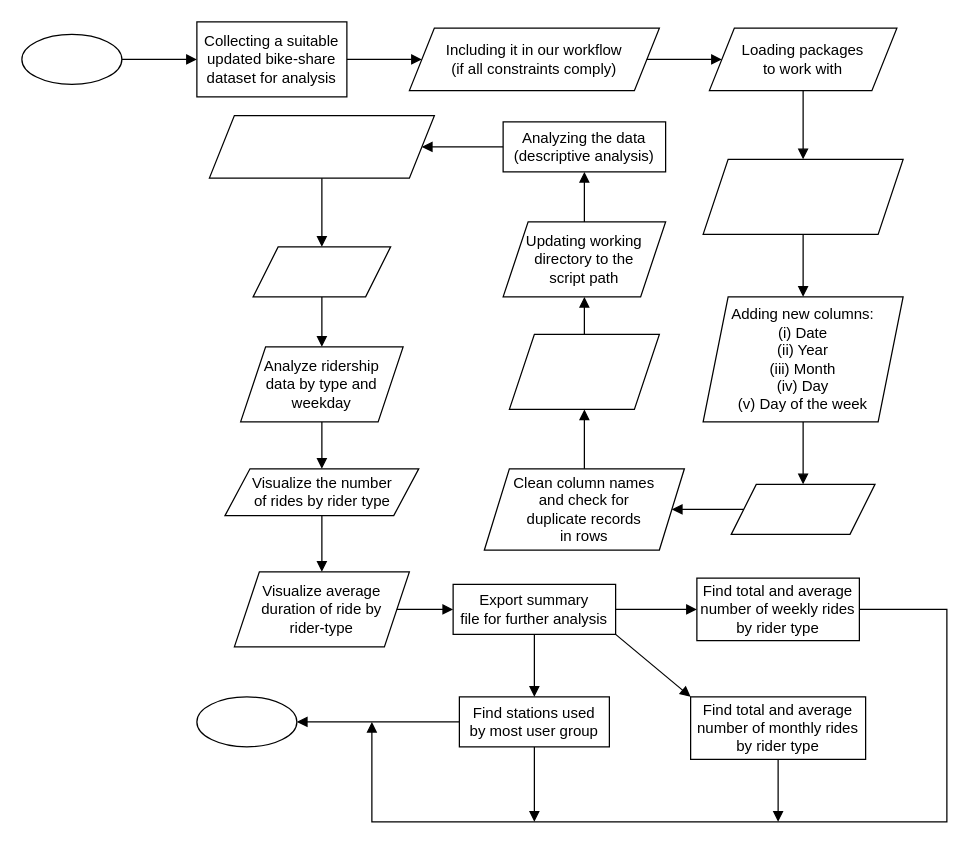
Some shapes in this 979 by 854 pixel diagram are drawn without their labels. The centre of each missing label's shape, as x and y in pixels:
"Check data for errors" goes at pixel 802 508.
"Exporting the cleaned data to a new file" goes at pixel 583 371.
"Sampling the data (as we have limited computation power)" goes at pixel 802 196.
"See the average ride time by each day for subscribers vs customers" goes at pixel 321 146.
"Sort days of the week" goes at pixel 321 271.
"Start" goes at pixel 71 58.
"Stop" goes at pixel 246 721.
